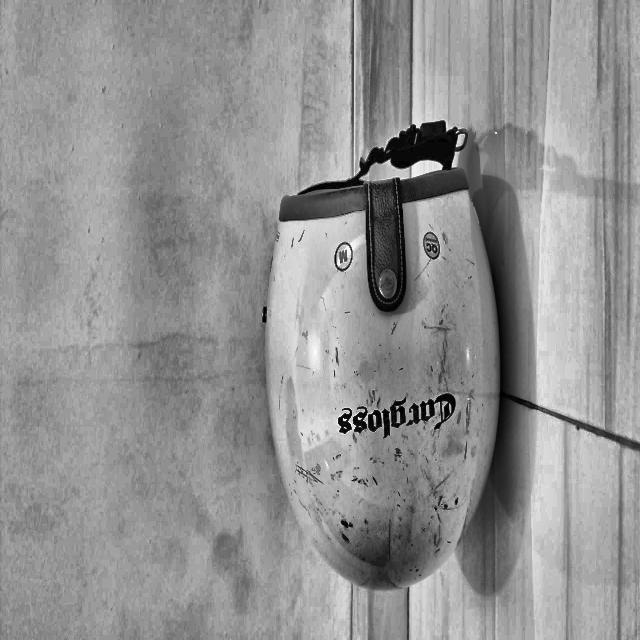Helmet: (228, 140, 545, 598)
